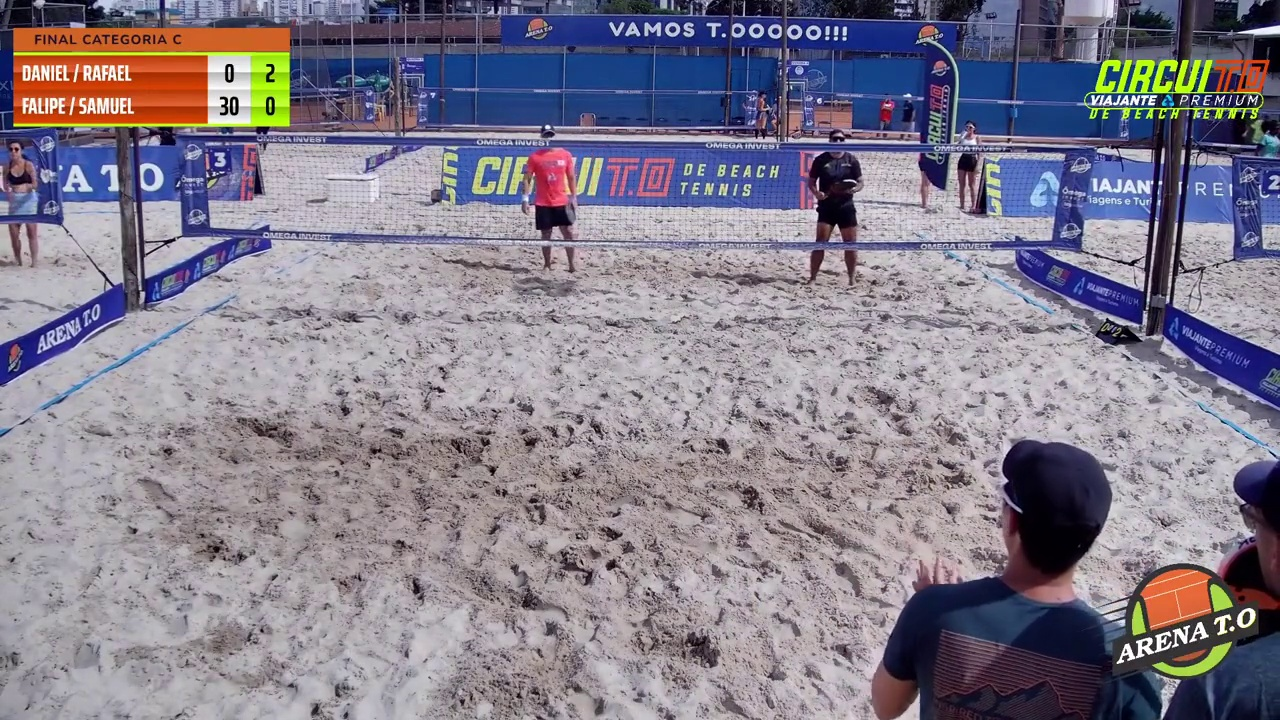court_line: (642, 0, 806, 232)
